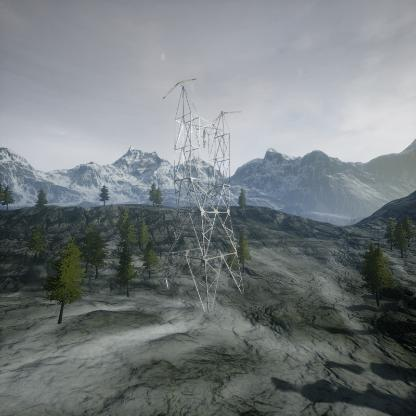tower: (159, 79, 247, 316)
